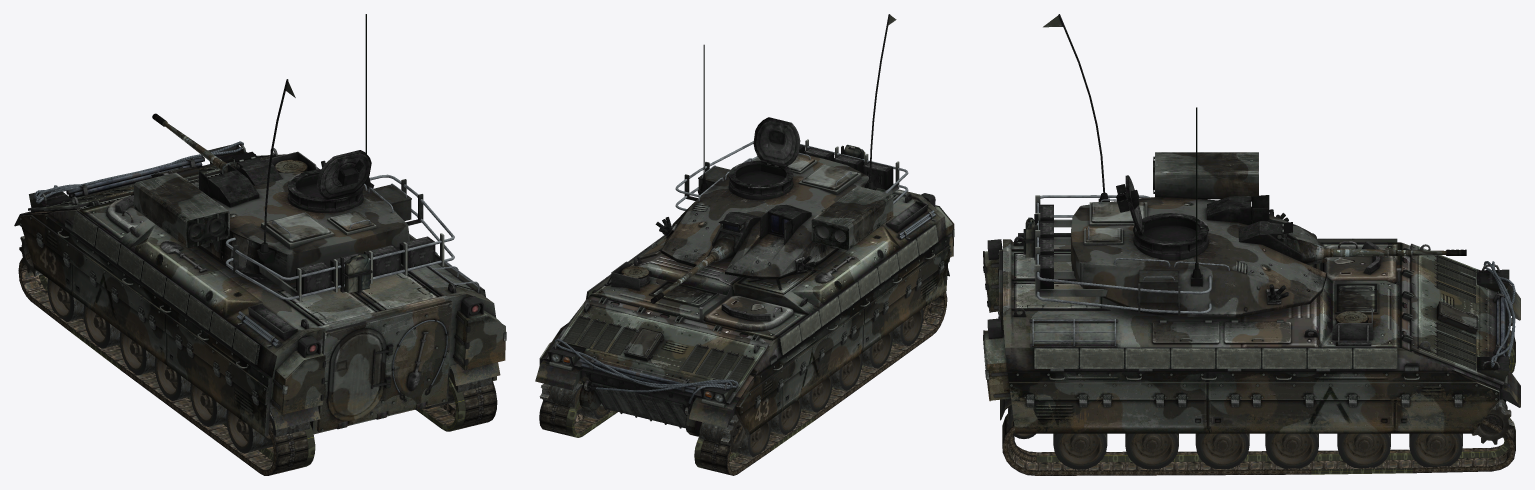
3 renders of one model, left to right at view 1: azimuth 30°, elevation 25°; view 2: azimuth 150°, elevation 25°; view 3: azimuth 270°, elevation 25°, orthographic. The views are drawn at different scales.
Visible parts, largest first — view 1: hull01, turret01, back_hatch01, tread_left01, door, tread_right01, hatch01, wheel14, wheel13, wheel12, wheel10, wheel11 (+2 smaller); view 2: hull01, turret01, tread_left01, hatch01, tread_right01, cannon01, wheel01, wheel16, wheel14, wheel11, wheel09, wheel13 (+2 smaller); view 3: hull01, turret01, tread_right01, wheel07, wheel05, wheel06, wheel04, wheel03, wheel02, cannon01, wheel16, hatch01.
Part boxes in pixels (x1,y1,x2,y2): hull01: [14, 141, 506, 436]; turret01: [134, 14, 454, 301]; back_hatch01: [317, 300, 452, 431]; tread_left01: [18, 252, 315, 475]; door: [327, 328, 392, 420]; tread_right01: [416, 377, 497, 431]; hatch01: [316, 150, 371, 199]; wheel14: [226, 409, 272, 453]; wheel13: [190, 383, 226, 426]; wheel12: [154, 357, 190, 400]; wheel10: [83, 305, 120, 348]; wheel11: [119, 331, 155, 375]; hull01: [535, 188, 954, 436]; turret01: [655, 14, 908, 279]; tread_left01: [694, 292, 947, 475]; hatch01: [753, 117, 800, 167]; tread_right01: [539, 379, 617, 437]; cannon01: [650, 234, 735, 303]; wheel01: [699, 415, 746, 452]; wheel16: [539, 383, 582, 411]; wheel14: [892, 309, 923, 345]; wheel11: [801, 375, 832, 412]; wheel09: [737, 420, 770, 457]; wheel13: [862, 331, 892, 368]; hull01: [983, 233, 1520, 433]; turret01: [1023, 14, 1326, 317]; tread_right01: [1002, 414, 1515, 475]; wheel07: [1053, 433, 1107, 469]; wheel05: [1195, 433, 1249, 468]; wheel06: [1125, 433, 1178, 469]; wheel04: [1265, 433, 1318, 468]; wheel03: [1337, 433, 1390, 467]; wheel02: [1409, 433, 1462, 466]; cannon01: [1287, 239, 1466, 264]; wheel16: [1472, 399, 1513, 444]; hatch01: [1116, 175, 1142, 234].
Size of the model in its own units: 3.77 by 5.51 by 7.19.
